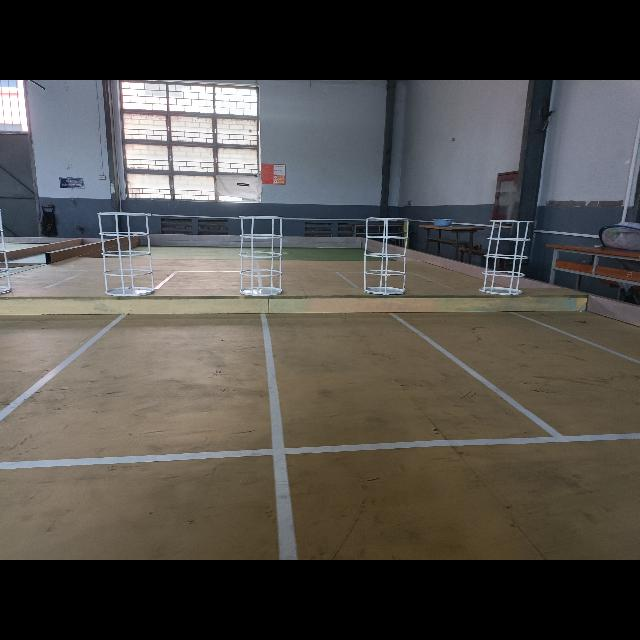S: (96, 212, 155, 298), (478, 218, 535, 296), (238, 214, 285, 298), (362, 217, 410, 297), (0, 207, 12, 299)
